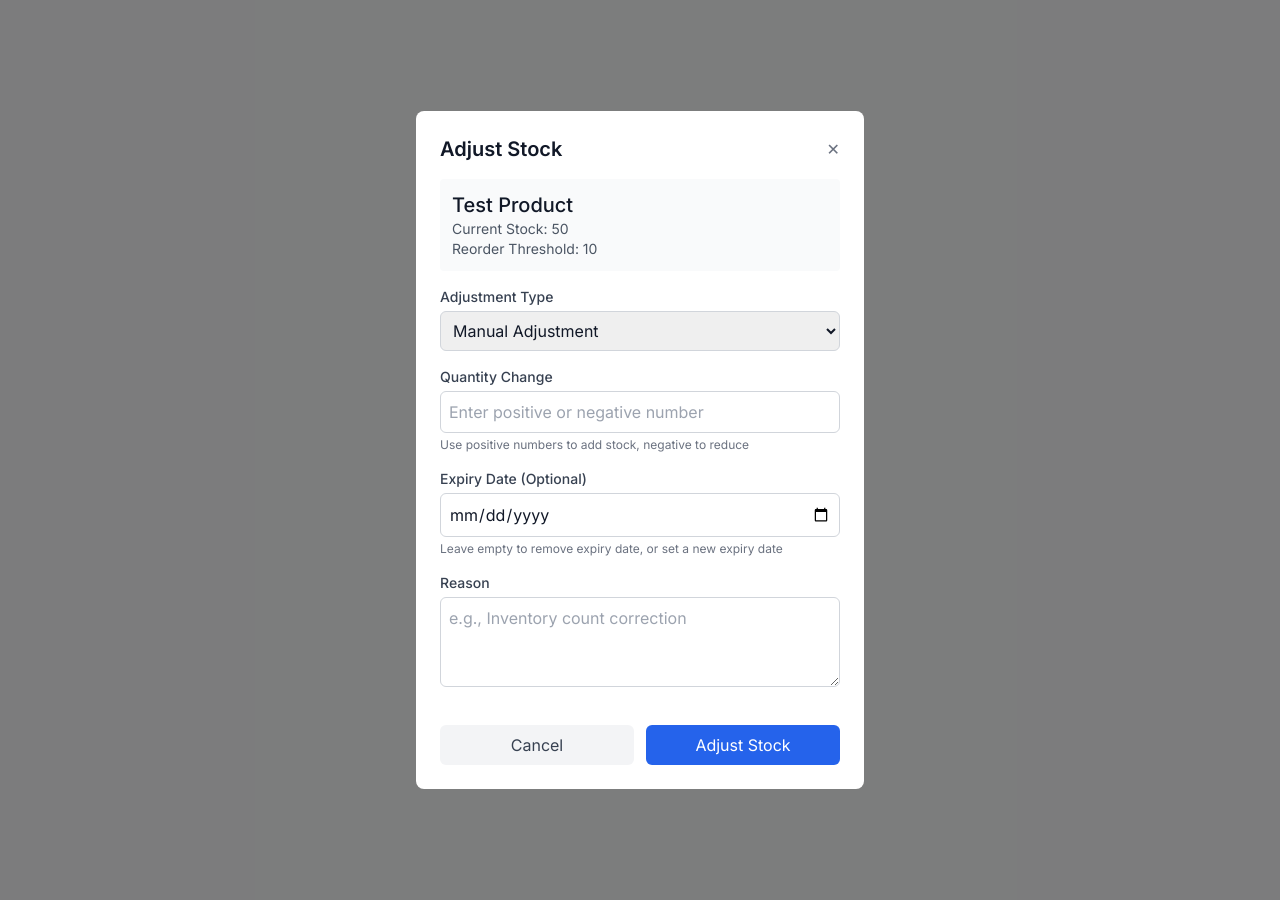
Test: StockAdjustmentModal › should handle adjustment error
Step 1. Type "10" into the number field with placeholder "Enter positive or negative number" → (640, 412), box [440,391,840,433]
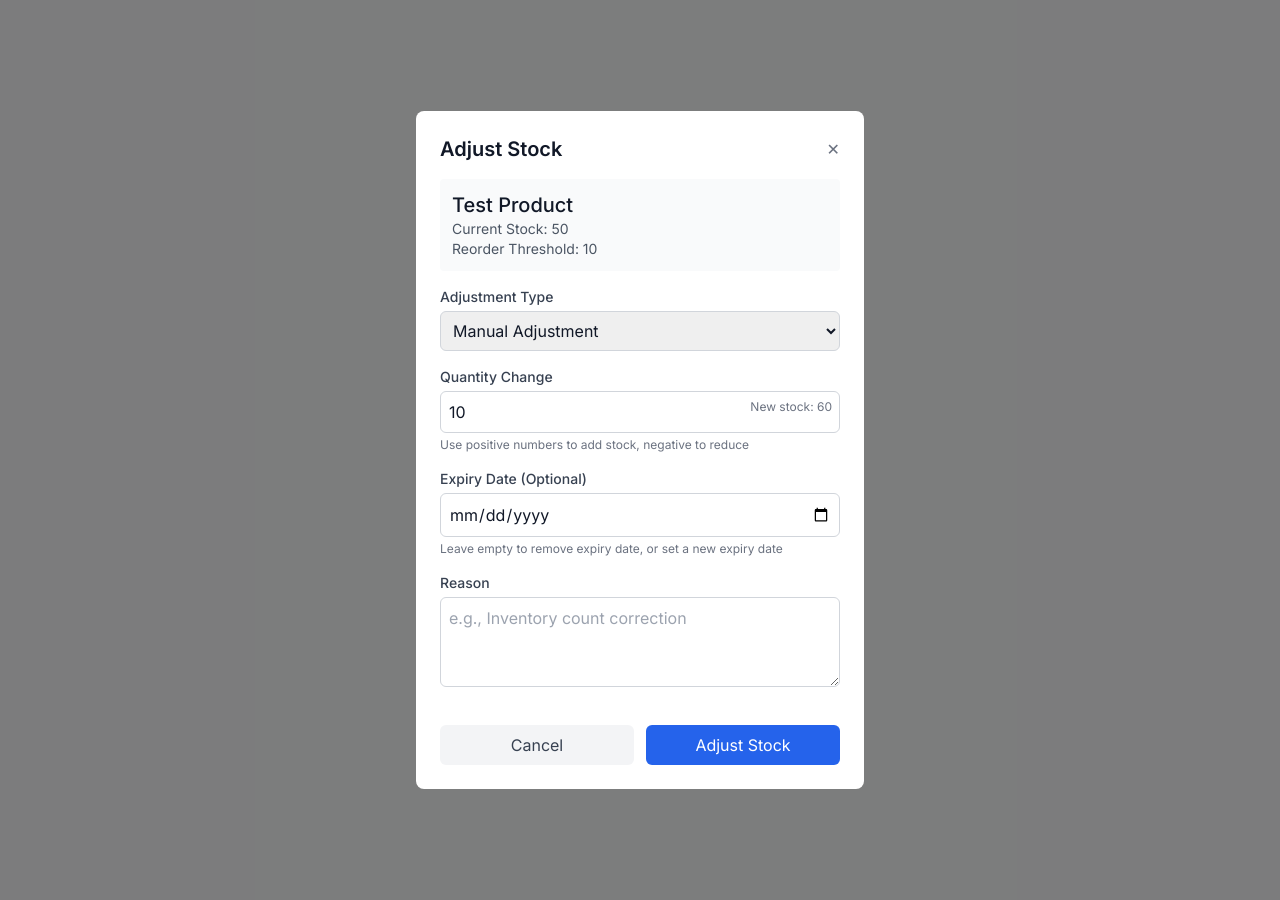
Step 2. Type "Test reason" into the text box labelled "Reason" → (640, 642), box [440,597,840,687]
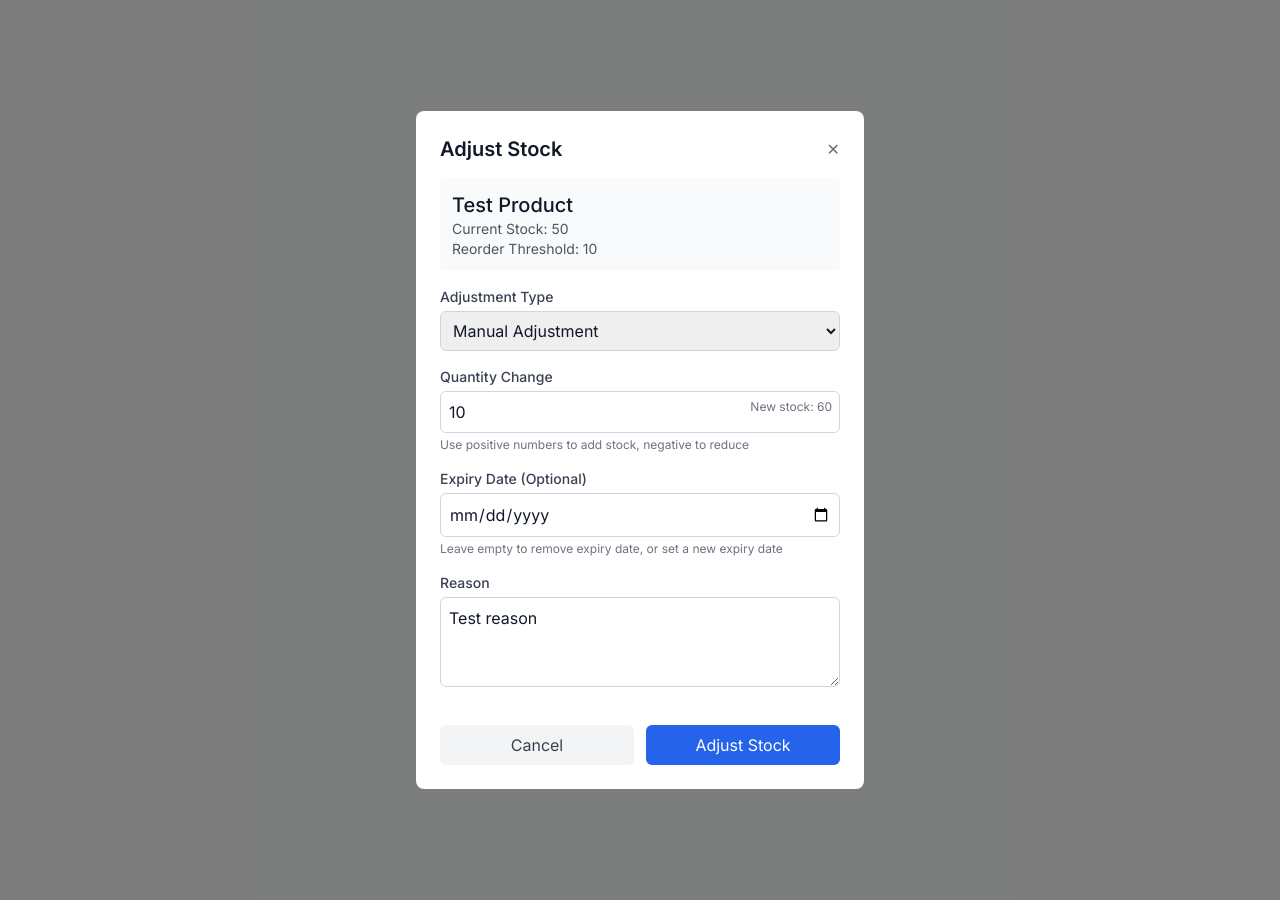
Step 3. Click the button "Adjust Stock" → (743, 745), box [646,725,840,765]
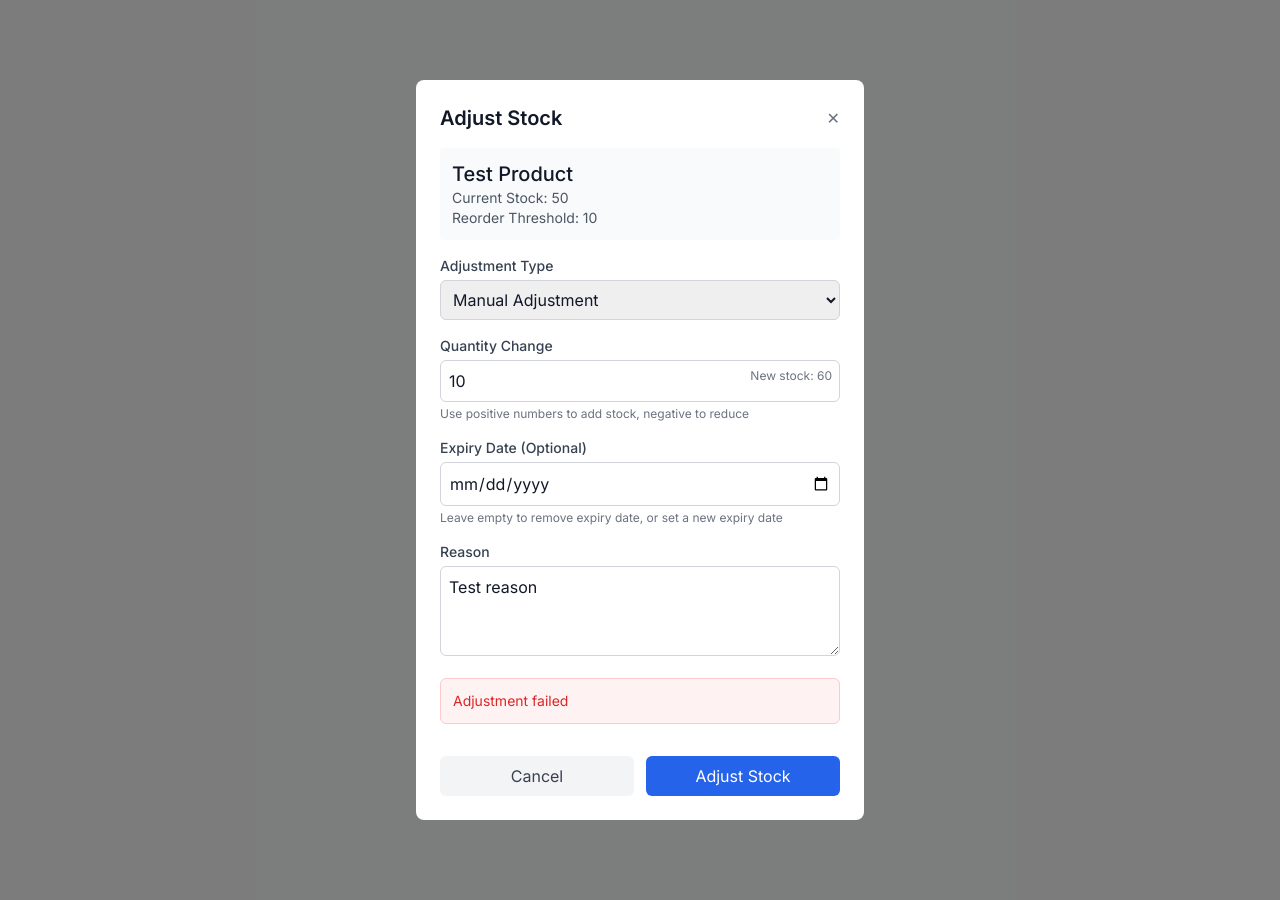
Now the text "Adjustment failed" is shown, box [453,692,568,709]
